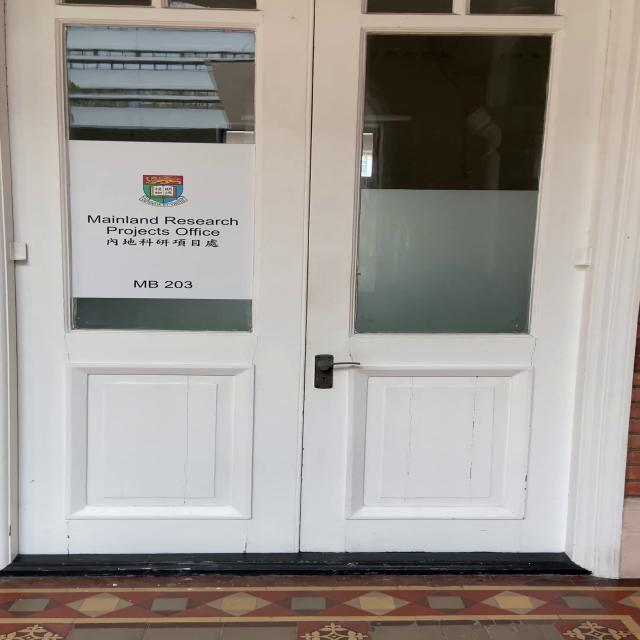room203Window: (126, 277, 198, 291)
